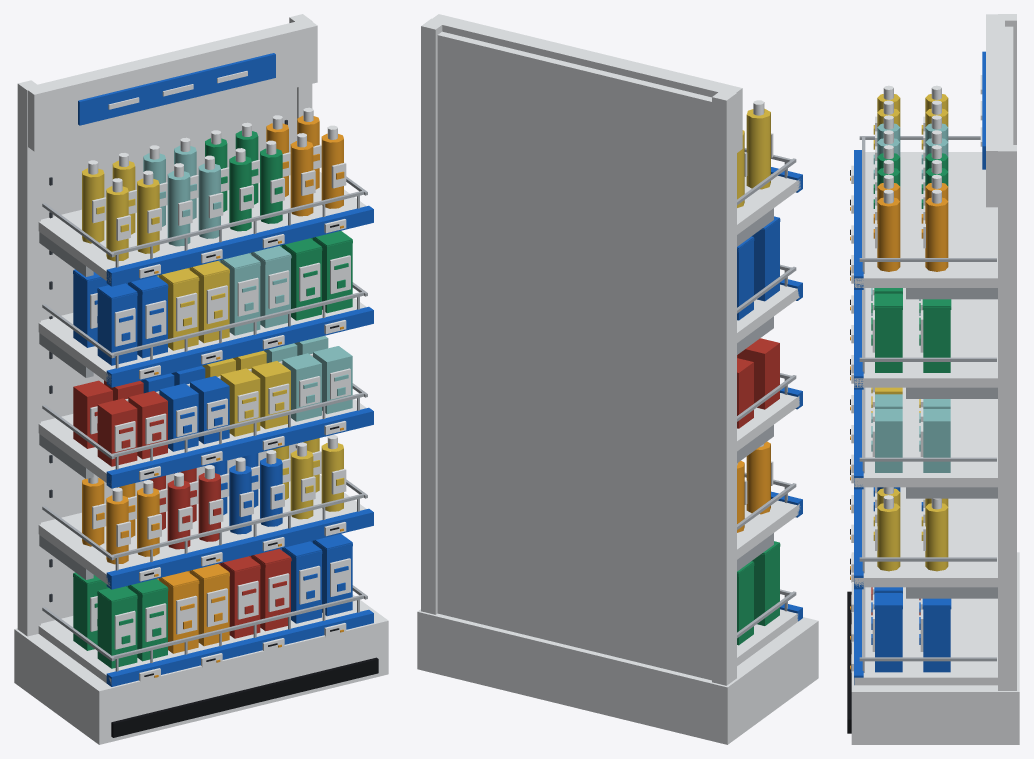
The model's file is shelf-white-tall.glb.
3 views of the same model, side by side, from view 1: azimuth 30°, elevation 25°; view 2: azimuth 150°, elevation 25°; view 3: azimuth 270°, elevation 25° (orthographic). The views are drawn at different scales.
Parts seen in each view (by area): view 1: stock-labels_eef1f4, ShelfWhiteTall, shelf-back, shelf-base, shelf-header, shelf-details_b7bdc4, shelf-post-left, stock-packages_1b6fd6, stock-packages_bc3a2f, stock-packages_1f9c63, stock-bottles_f0a128, stock-bottles_e6c543 (+23 smaller); view 2: shelf-back, shelf-base, shelf-post-left, shelf-post-right, shelf-header, shelf-details_b7bdc4, stock-packages_1f9c63, stock-packages_1b6fd6, stock-packages_bc3a2f, stock-bottles_e6c543, stock-bottles_f0a128, shelf-deck-4 (+5 smaller); view 3: shelf-deck-4, shelf-base, shelf-post-right, shelf-details_b7bdc4, shelf-deck-1, shelf-deck-2, shelf-deck-3, shelf-deck-0, ShelfWhiteTall, stock-packages_1b6fd6, stock-bottles_e6c543, stock-packages_8ccaca (+11 smaller).
Boxes of the visible parts, x1=… form: stock-labels_eef1f4: x1=90, y1=144, x2=350, y2=682; ShelfWhiteTall: x1=78, y1=53, x2=373, y2=686; shelf-back: x1=41, y1=87, x2=296, y2=623; shelf-base: x1=14, y1=594, x2=388, y2=744; shelf-header: x1=28, y1=21, x2=317, y2=151; shelf-details_b7bdc4: x1=39, y1=176, x2=367, y2=671; shelf-post-left: x1=17, y1=80, x2=40, y2=636; stock-packages_1b6fd6: x1=73, y1=269, x2=352, y2=623; stock-packages_bc3a2f: x1=73, y1=380, x2=290, y2=638; stock-packages_1f9c63: x1=73, y1=231, x2=352, y2=668; stock-bottles_f0a128: x1=82, y1=115, x2=343, y2=564; stock-bottles_e6c543: x1=82, y1=160, x2=343, y2=519; shelf-back: x1=437, y1=31, x2=711, y2=680; shelf-base: x1=417, y1=609, x2=818, y2=744; shelf-post-left: x1=712, y1=89, x2=736, y2=685; shelf-post-right: x1=421, y1=18, x2=445, y2=614; shelf-header: x1=430, y1=14, x2=742, y2=152; shelf-details_b7bdc4: x1=737, y1=148, x2=796, y2=638; stock-packages_1f9c63: x1=737, y1=541, x2=779, y2=645; stock-packages_1b6fd6: x1=737, y1=216, x2=779, y2=320; stock-packages_bc3a2f: x1=737, y1=338, x2=779, y2=428; stock-bottles_e6c543: x1=737, y1=108, x2=770, y2=207; stock-bottles_f0a128: x1=737, y1=441, x2=770, y2=532; shelf-deck-4: x1=737, y1=174, x2=800, y2=234; shelf-deck-4: x1=854, y1=152, x2=997, y2=287; shelf-base: x1=851, y1=552, x2=1019, y2=744; shelf-post-right: x1=998, y1=145, x2=1016, y2=690; shelf-details_b7bdc4: x1=859, y1=136, x2=997, y2=672; shelf-deck-1: x1=854, y1=487, x2=997, y2=587; shelf-deck-2: x1=854, y1=387, x2=997, y2=487; shelf-deck-3: x1=854, y1=288, x2=997, y2=387; shelf-deck-0: x1=854, y1=587, x2=997, y2=685; ShelfWhiteTall: x1=854, y1=51, x2=985, y2=684; stock-packages_1b6fd6: x1=875, y1=587, x2=950, y2=672; stock-bottles_e6c543: x1=877, y1=94, x2=948, y2=571; stock-packages_8ccaca: x1=875, y1=394, x2=950, y2=472.
Bounding box in the file's own units: 0.96 × 1.9 × 0.5.
